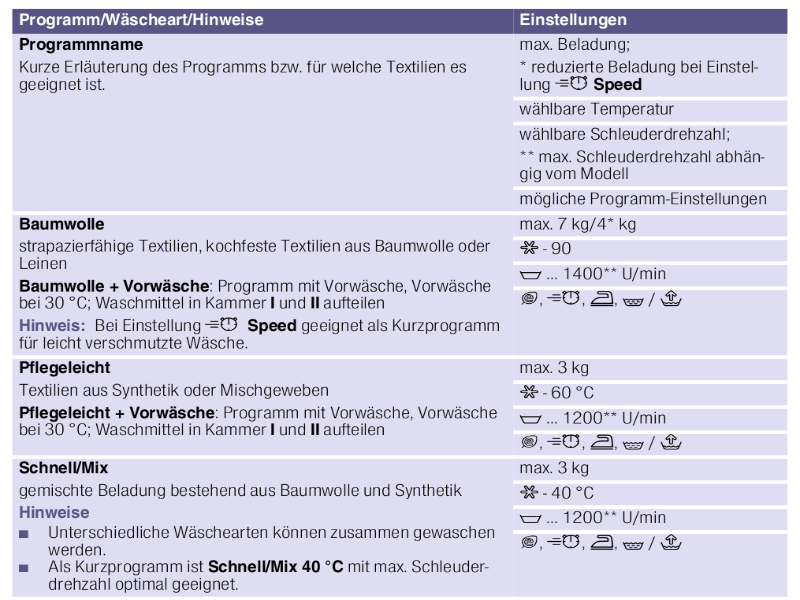borderless: (5, 5, 795, 600)
cell: (11, 459, 511, 596), (16, 216, 508, 351), (14, 359, 508, 450), (15, 37, 505, 103), (516, 127, 789, 184), (517, 35, 784, 92), (18, 10, 268, 30), (515, 192, 789, 209), (515, 288, 689, 312), (515, 407, 681, 430), (513, 262, 685, 284), (517, 100, 693, 120), (515, 535, 687, 554), (516, 510, 677, 530), (513, 216, 676, 234), (514, 434, 683, 451), (518, 11, 632, 30), (516, 484, 597, 504), (515, 359, 599, 378), (514, 384, 600, 402), (516, 460, 595, 479), (513, 240, 578, 256)
